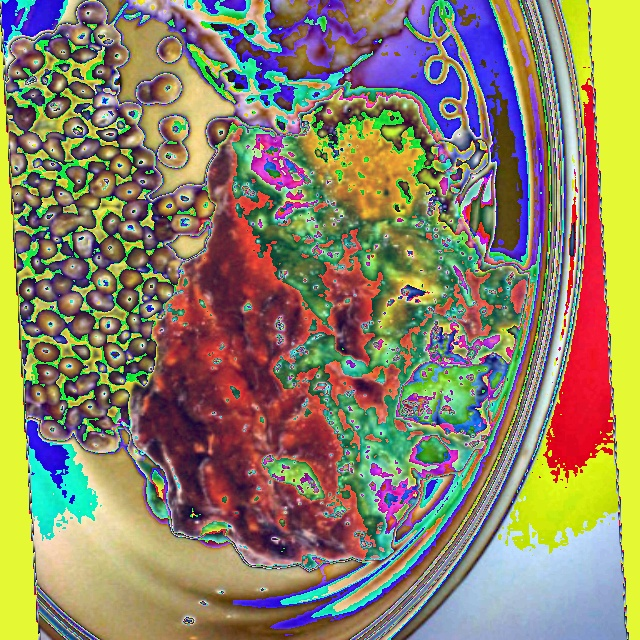background: (5, 0, 529, 572), (50, 34, 183, 107)
